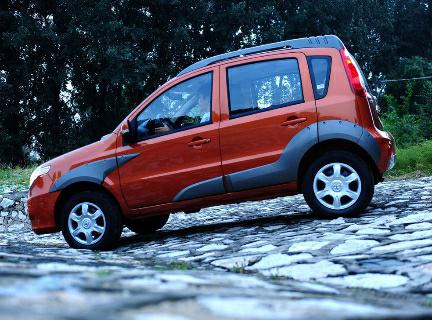长城-M1: (25, 30, 393, 254)
